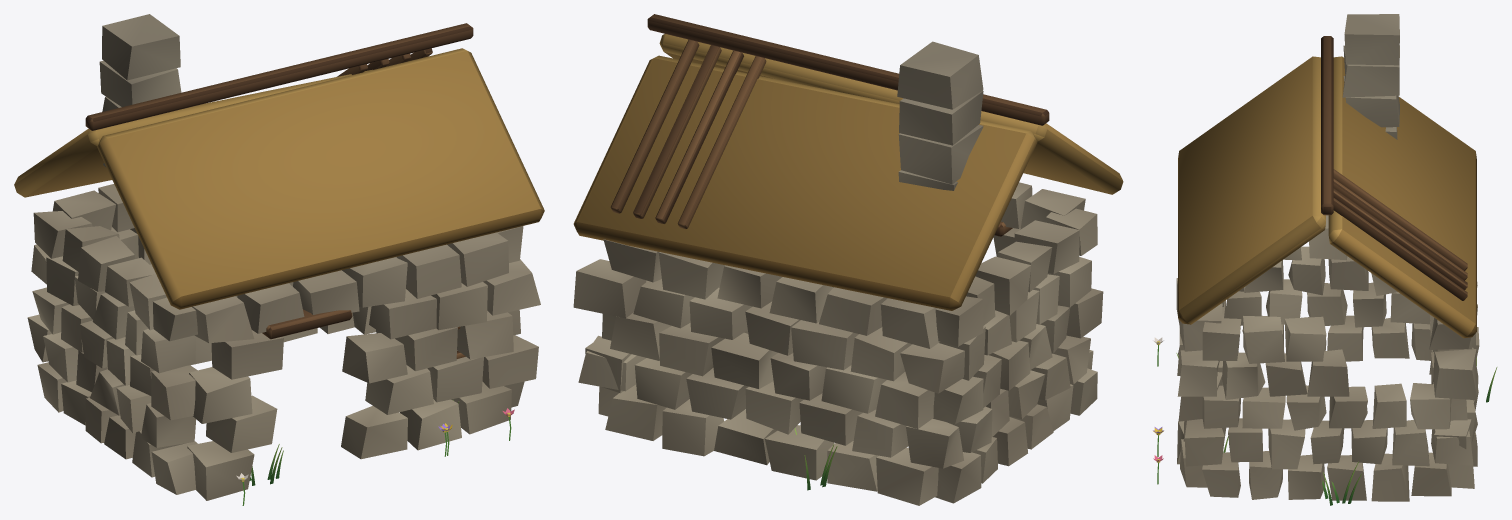
The model's file is Cottage.fbx.
3 views of the same model, side by side, from view 1: azimuth 30°, elevation 25°; view 2: azimuth 150°, elevation 25°; view 3: azimuth 270°, elevation 25° (orthographic). The views are drawn at different scales.
Visible parts, largest first — view 1: Cottage; view 2: Cottage; view 3: Cottage.
Boxes of the visible parts, x1=… form: Cottage: x1=14, y1=14, x2=544, y2=505; Cottage: x1=573, y1=14, x2=1123, y2=505; Cottage: x1=1153, y1=14, x2=1497, y2=505.
Bounding box in the file's own units: 3.2 × 3.07 × 2.75.
